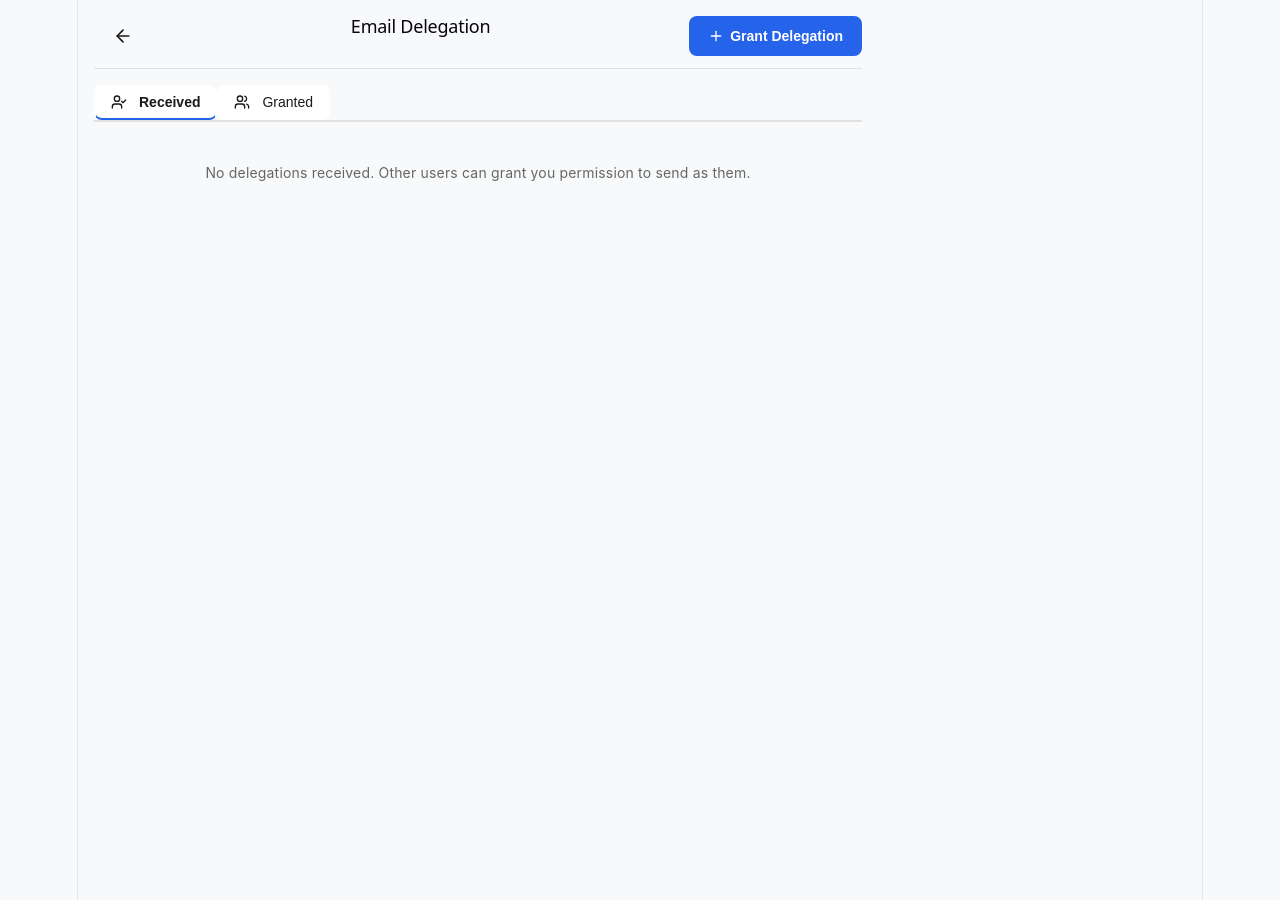
Test case: DelegationManager › shows empty state on granted tab when no granted delegations exist
The image size is (1280, 900).
Click the button "Granted".
click(274, 102)  # box [218,85,330,120]
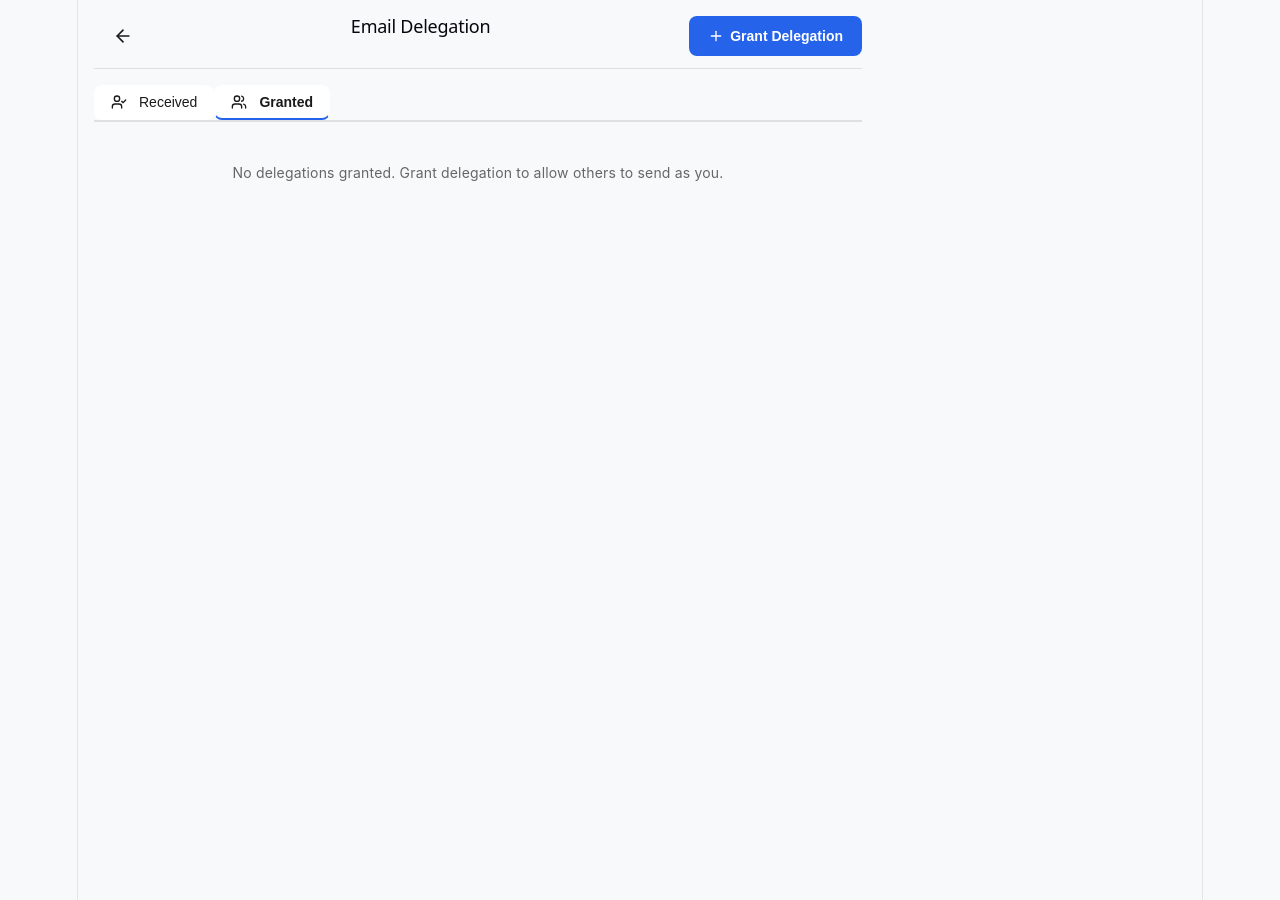
Now the text "No delegations granted. Grant delegation to allow others to send as you." is shown, box [232,164,723,181]
